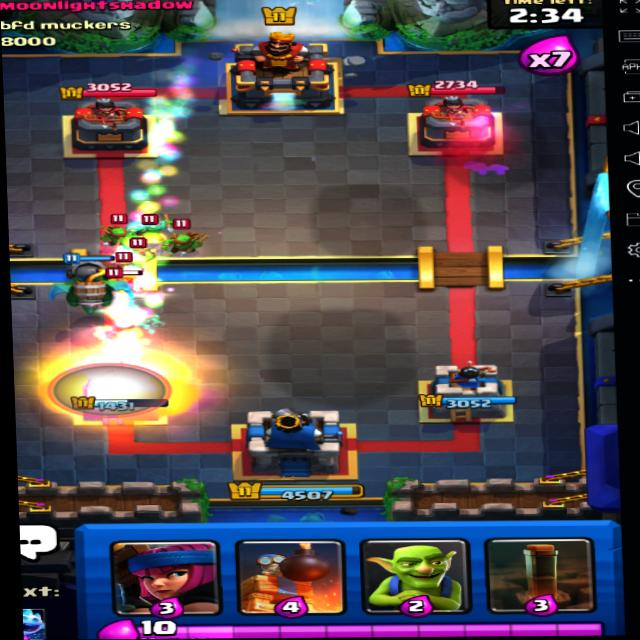spear-goblin: (100, 212, 137, 243), (166, 224, 200, 254), (143, 215, 178, 238)
